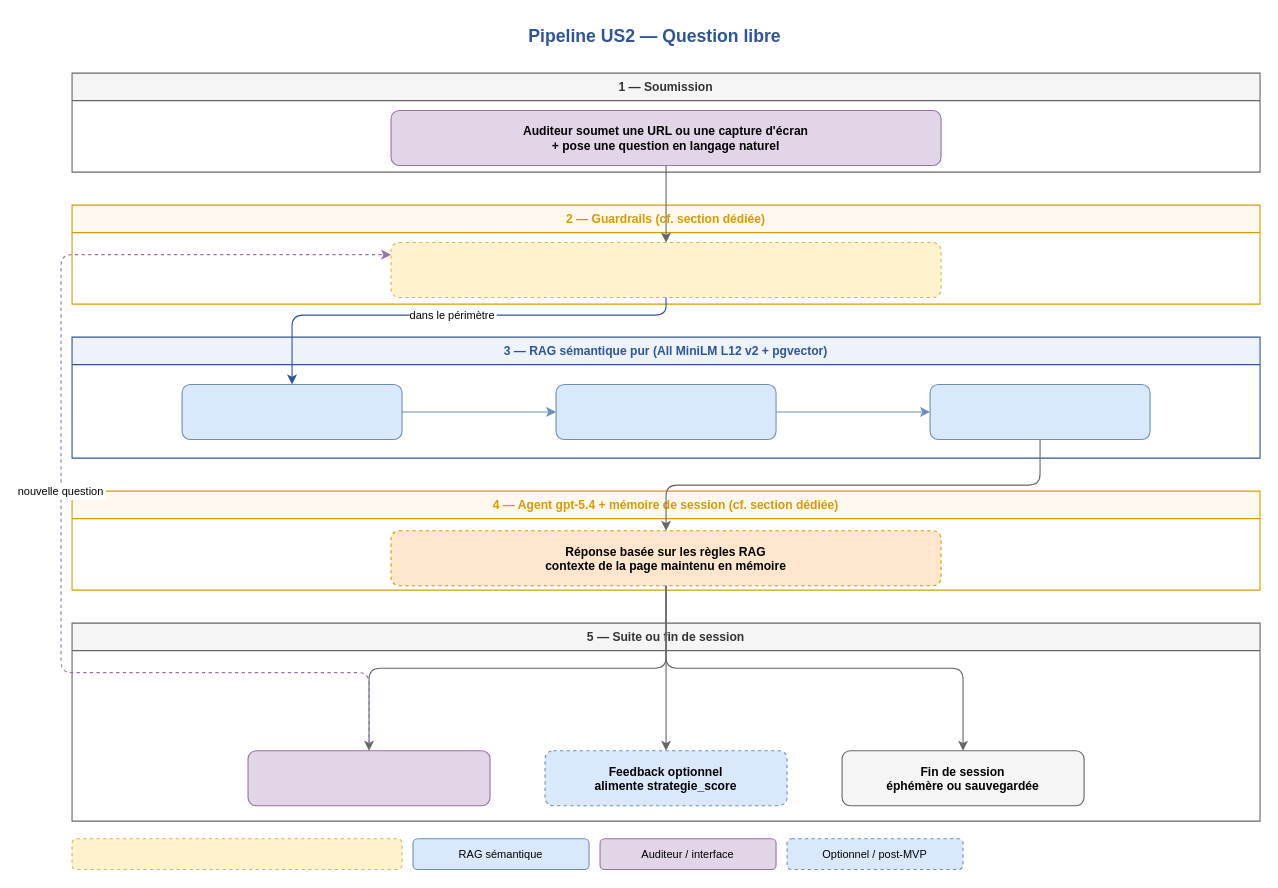
Some shapes in this 1278 by 888 pixel diagram are drawn without their labels. The shapes that lost their labels are listed below. From the top down, each one's centre as x and y in pixels, then its label:
At [665,269]: "Vérification périmètre Opquast refus si hors sujet".
At [291,411]: "Vectorisation de la question".
At [665,411]: "Recherche sémantique dans les 245 règles".
At [1039,411]: "Règles pertinentes + guide_analyse".
At [368,778]: "Nouvelle question → retour bloc 2".
At [236,854]: "Boîte noire — détaillée dans sa section dédiée".
